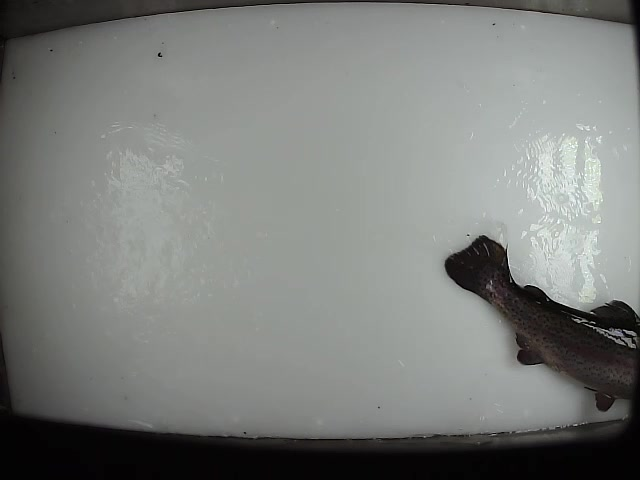fish: (441, 232, 640, 414)
